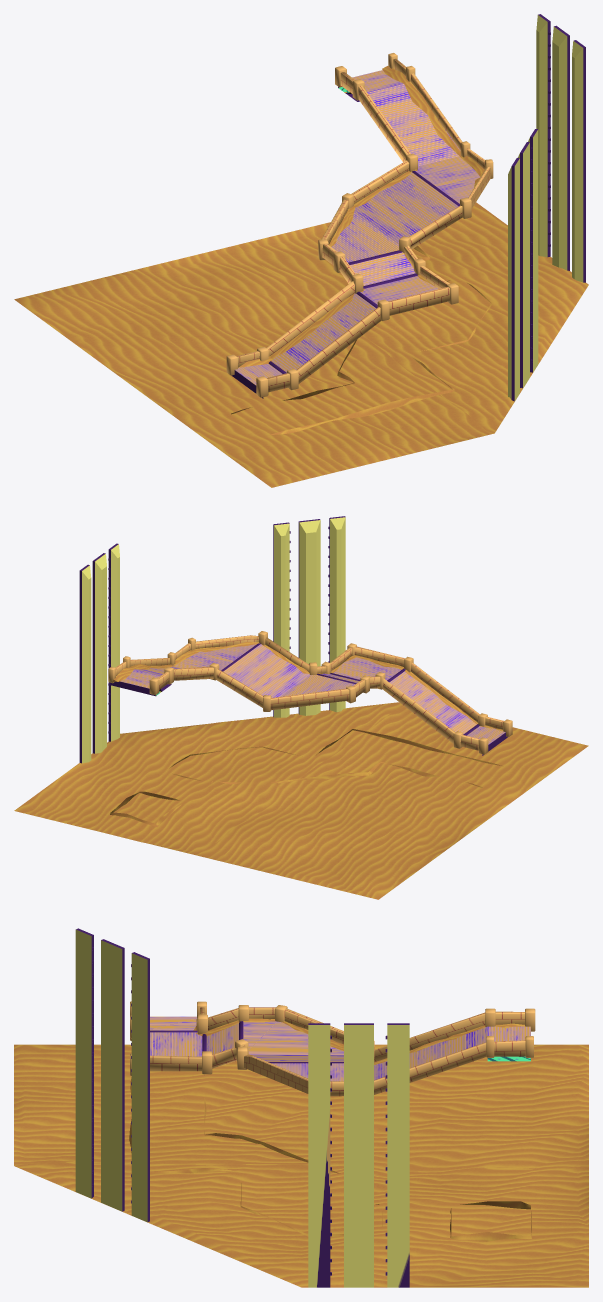
Rendered from Desert_updates.fbx.
3 views of the same model, one above another, from view 1: azimuth 30°, elevation 25°; view 2: azimuth 150°, elevation 25°; view 3: azimuth 270°, elevation 25° (orthographic). The views are drawn at different scales.
Parts seen in each view (by area): view 1: Desert_floor001, Desert_floor, Desert_moving_platform, Desert_moving_platform2; view 2: Desert_floor001, Desert_floor, Desert_moving_platform2, Desert_moving_platform; view 3: Desert_floor001, Desert_moving_platform, Desert_floor, Desert_moving_platform2.
Boxes of the visible parts, <box> form: Desert_floor001: <box>14,87,588,487</box>; Desert_floor: <box>226,53,493,398</box>; Desert_moving_platform: <box>536,14,585,282</box>; Desert_moving_platform2: <box>508,129,538,401</box>; Desert_floor001: <box>14,684,588,899</box>; Desert_floor: <box>108,631,512,755</box>; Desert_moving_platform2: <box>273,516,345,717</box>; Desert_moving_platform: <box>79,543,119,763</box>; Desert_floor001: <box>14,1044,588,1287</box>; Desert_moving_platform: <box>308,1023,409,1287</box>; Desert_floor: <box>130,1001,535,1096</box>; Desert_moving_platform2: <box>75,928,149,1222</box>.
Bounding box in the file's own units: 1562 × 806 × 1562.
Materials: 1 (1 with a texture image).
